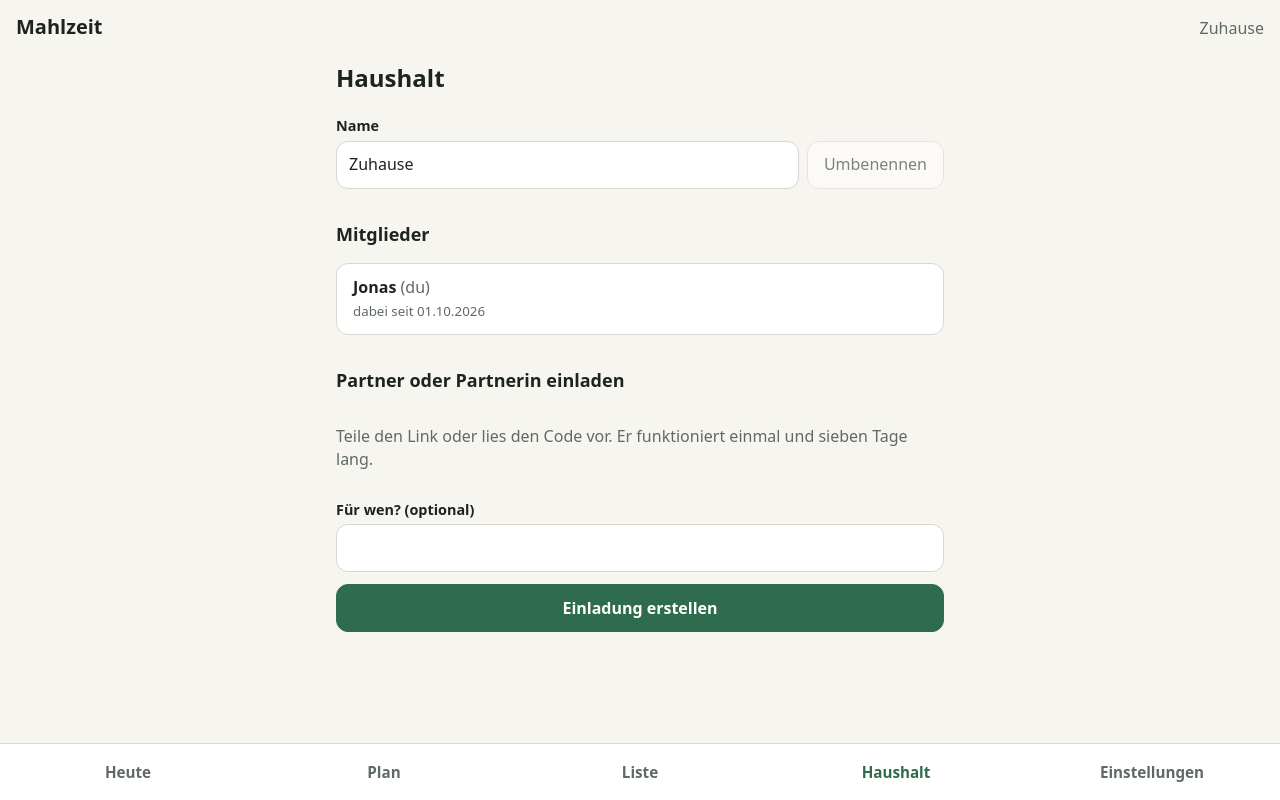
household › creates a partner invitation and shows link and code
Check: the text "Jonas" is shown, box [353,276,396,298]
Click the button "Einladung erstellen" at (640, 608), box [336,584,944,632]
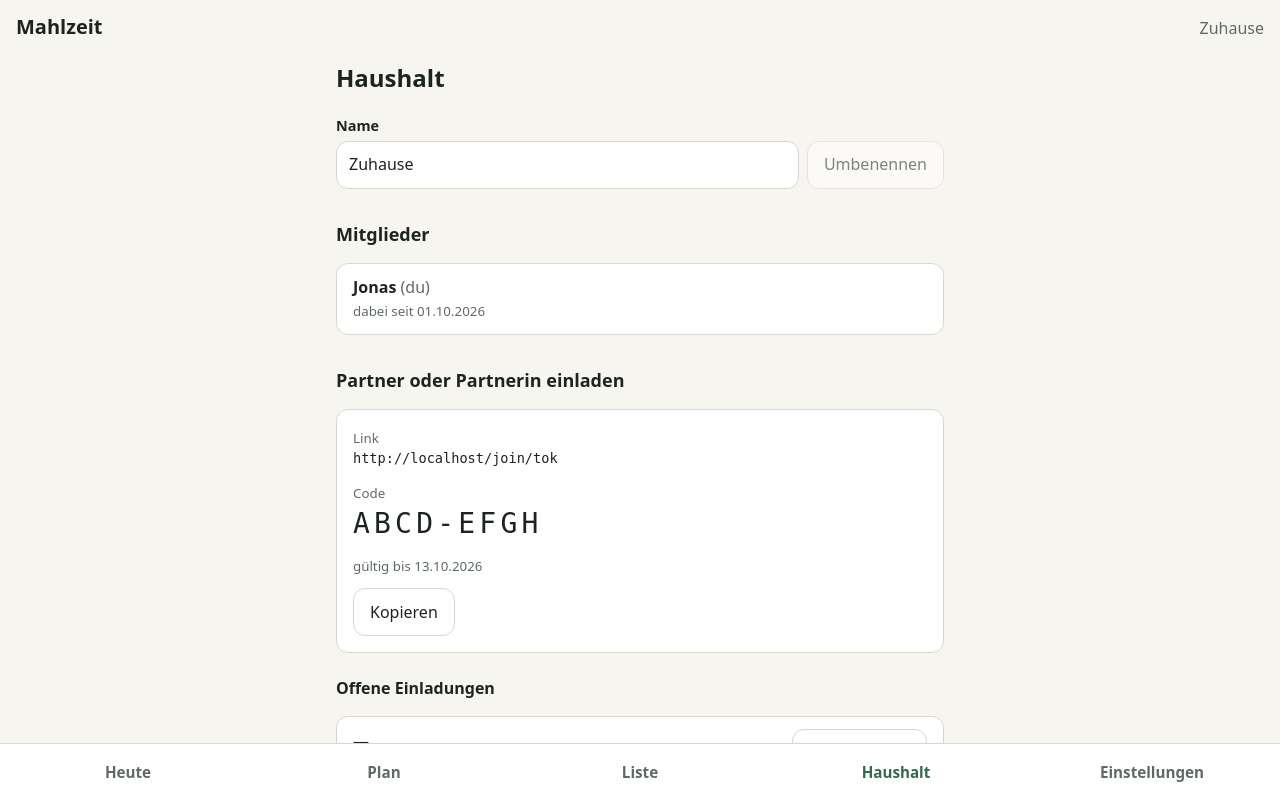
Check: the text with test id "invite-code" reads "ABCD-EFGH", box [353,507,542,540]
Check: the text with test id "invite-link" reads "http://localhost/join/tok", box [353,450,558,466]
Check: the button "Zurückziehen" is shown, box [792,729,927,777]
